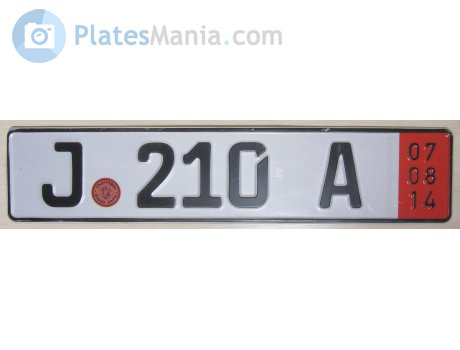License Plates: (20, 134, 395, 213)
